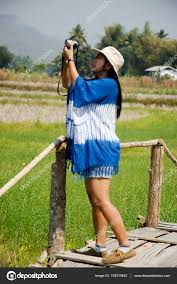person: (74, 35, 126, 117)
